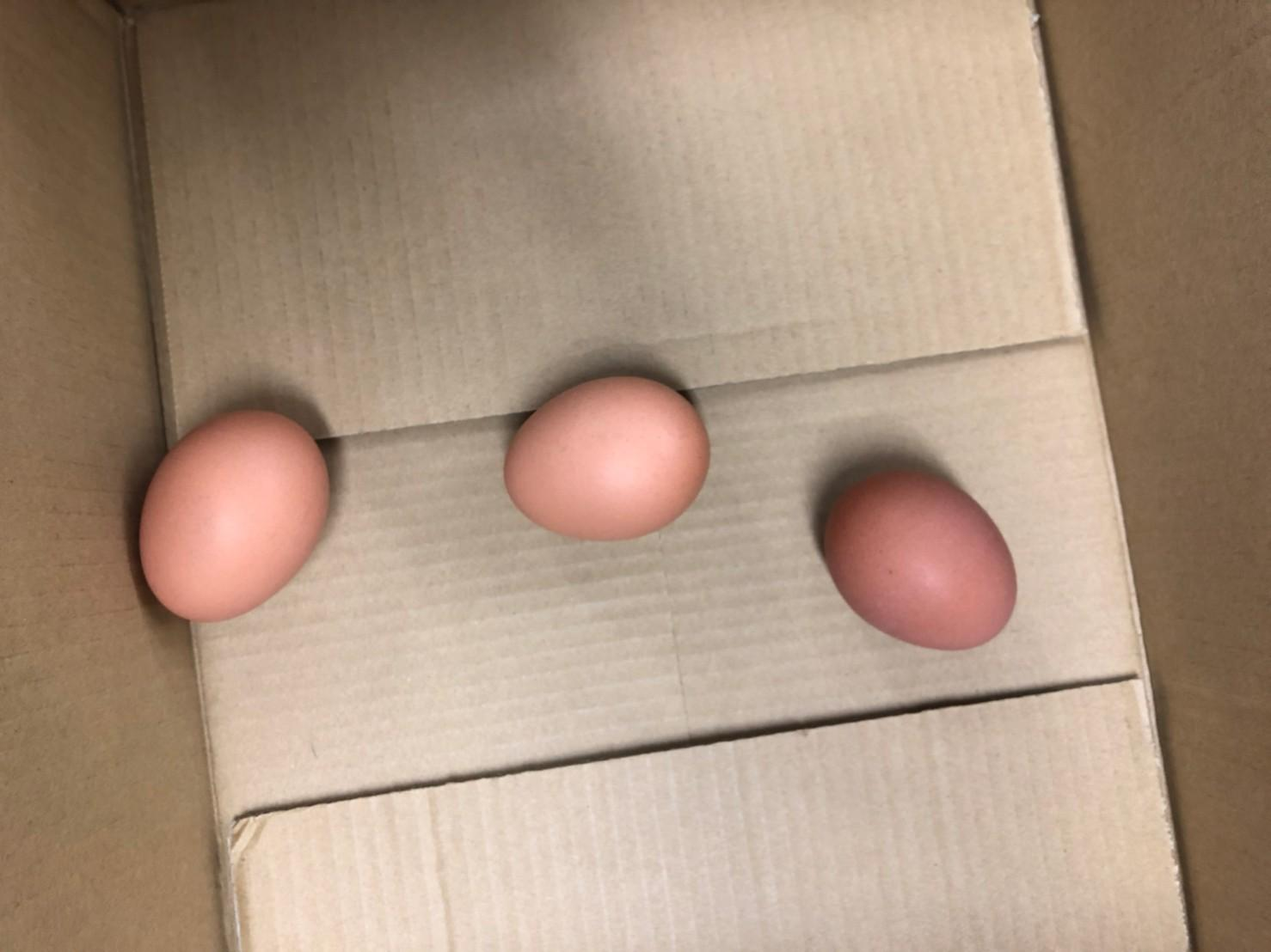egg: (130, 399, 336, 629), (817, 461, 1019, 651), (499, 366, 713, 545)
